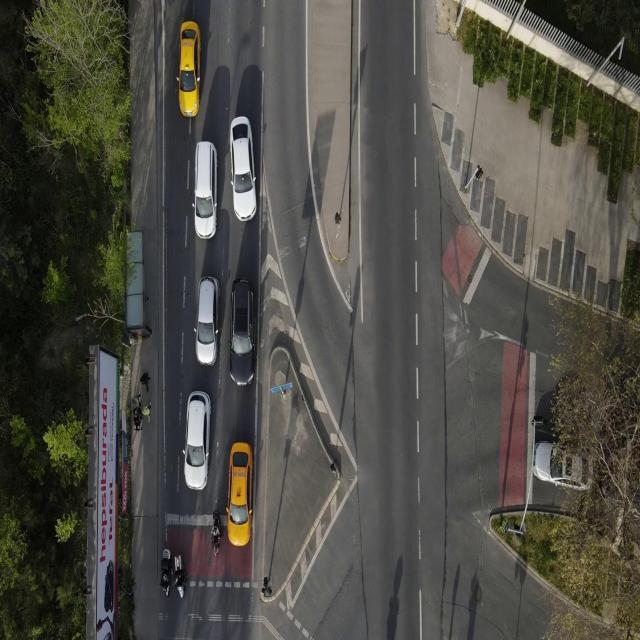p3rson: (140, 369, 151, 394), (130, 392, 142, 414), (142, 400, 152, 424)
